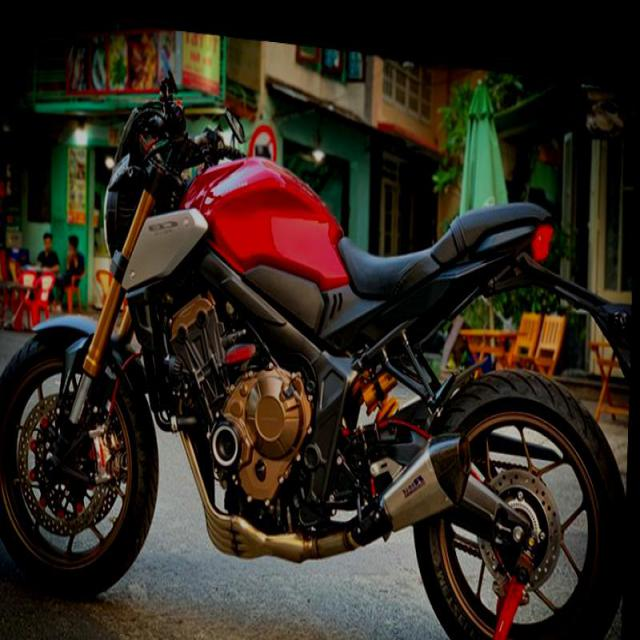CB650R: (0, 76, 638, 638)
